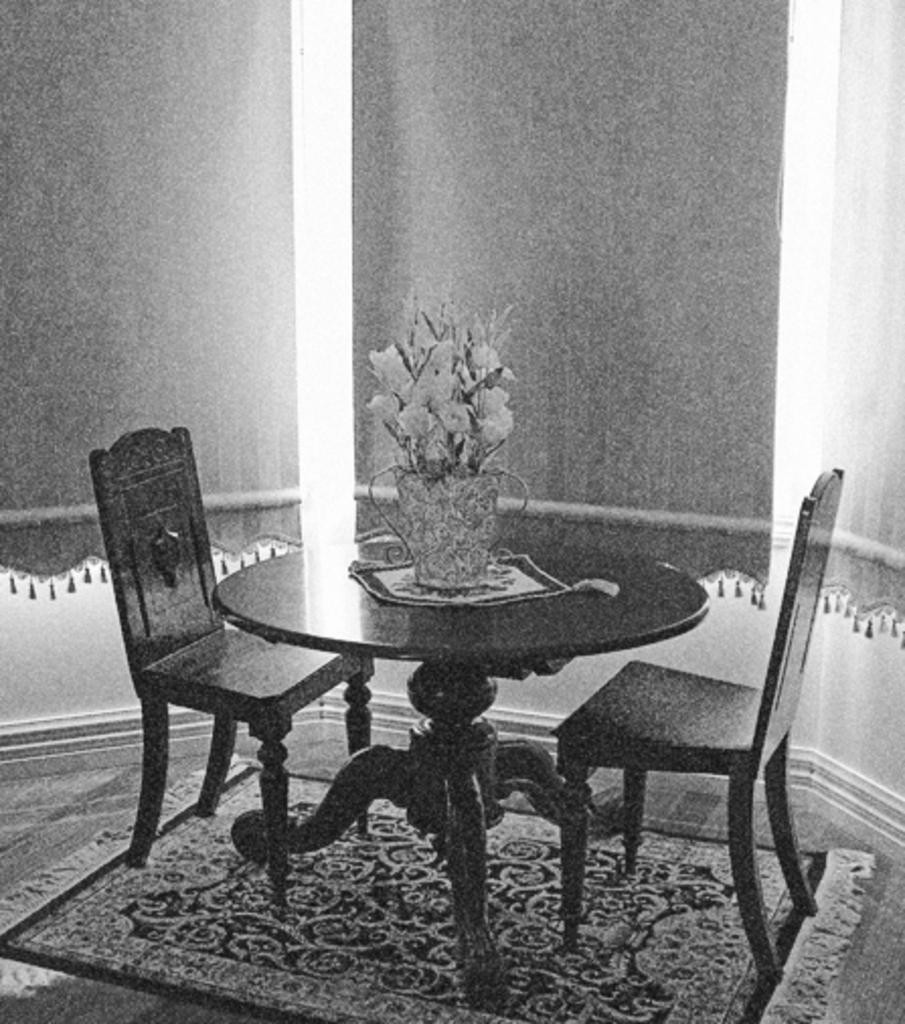Chair: (561, 502, 852, 996), (87, 429, 368, 874)
